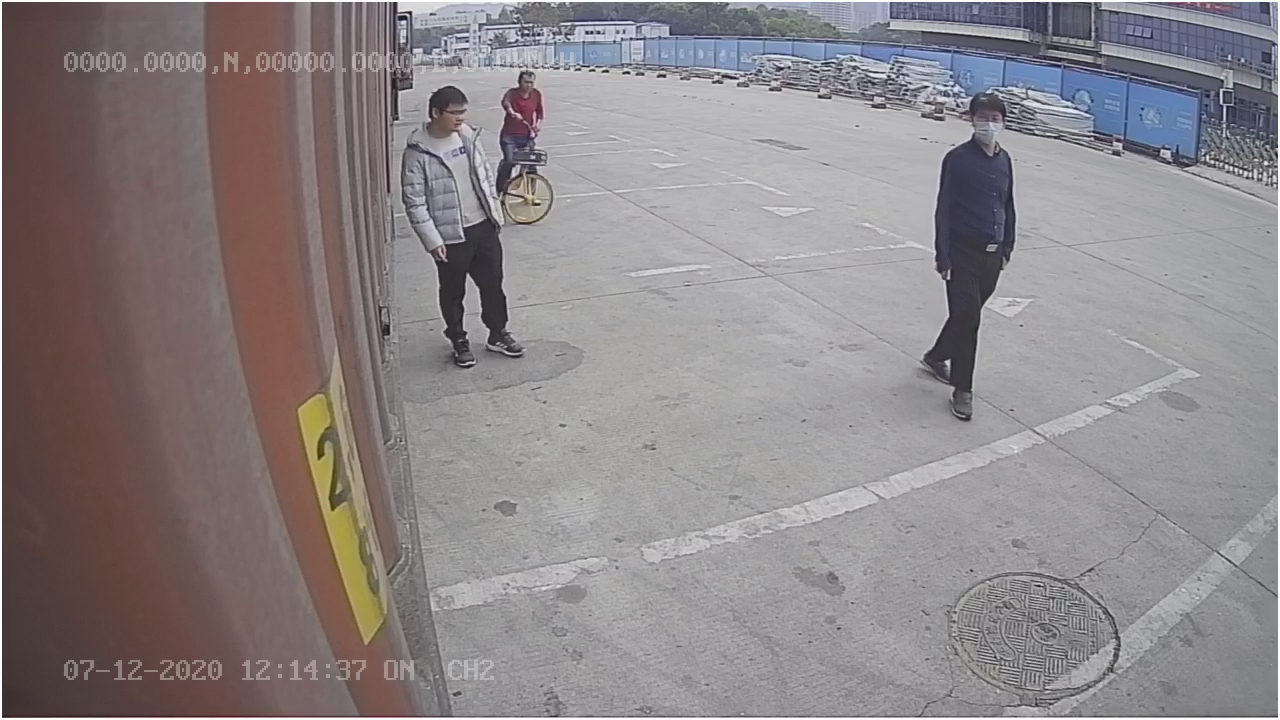person: (919, 92, 1021, 418)
